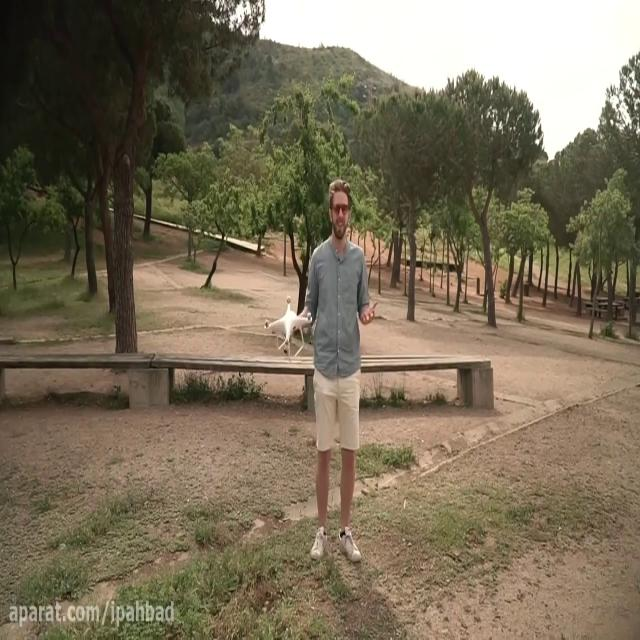drone: (263, 295, 313, 360)
